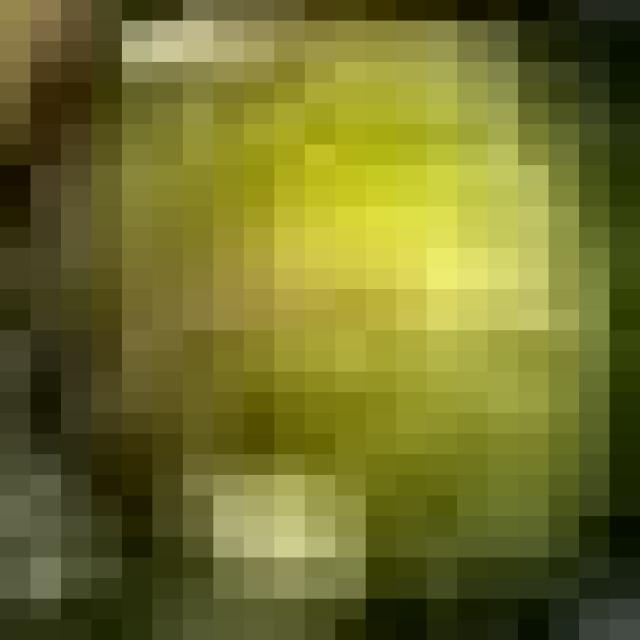Grapes: (0, 20, 640, 640)
